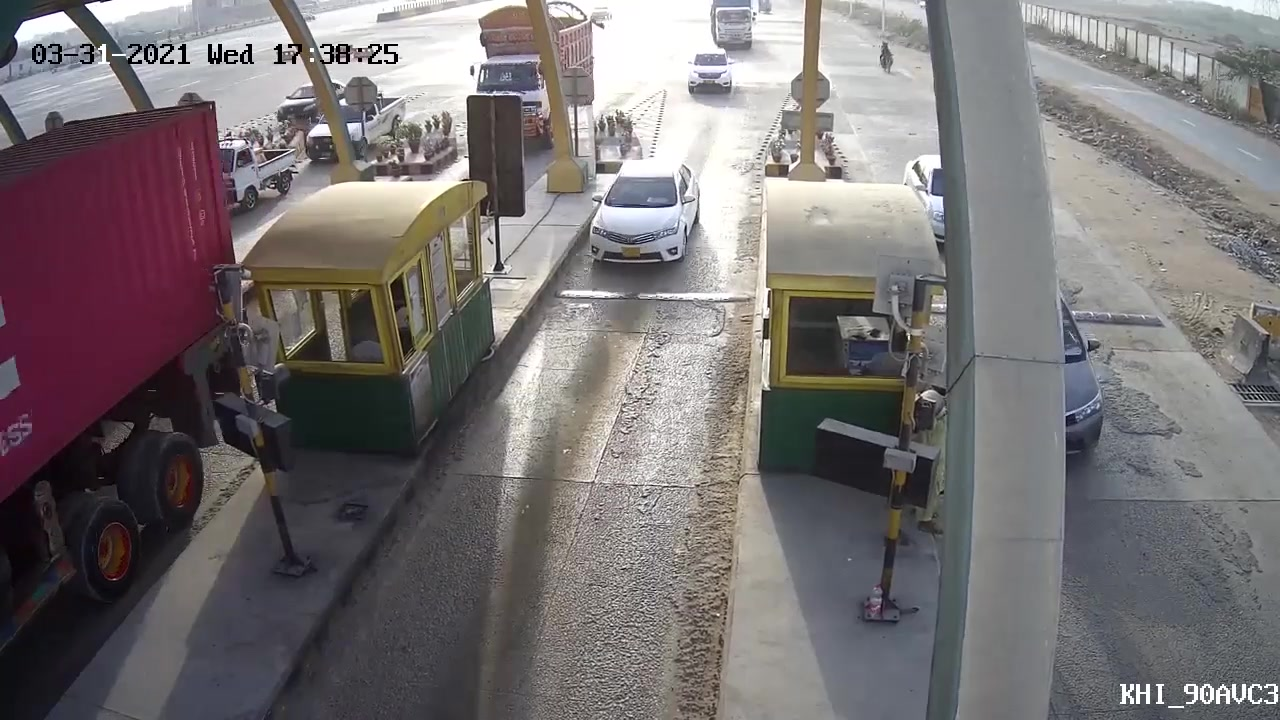F1: (589, 155, 705, 272)
